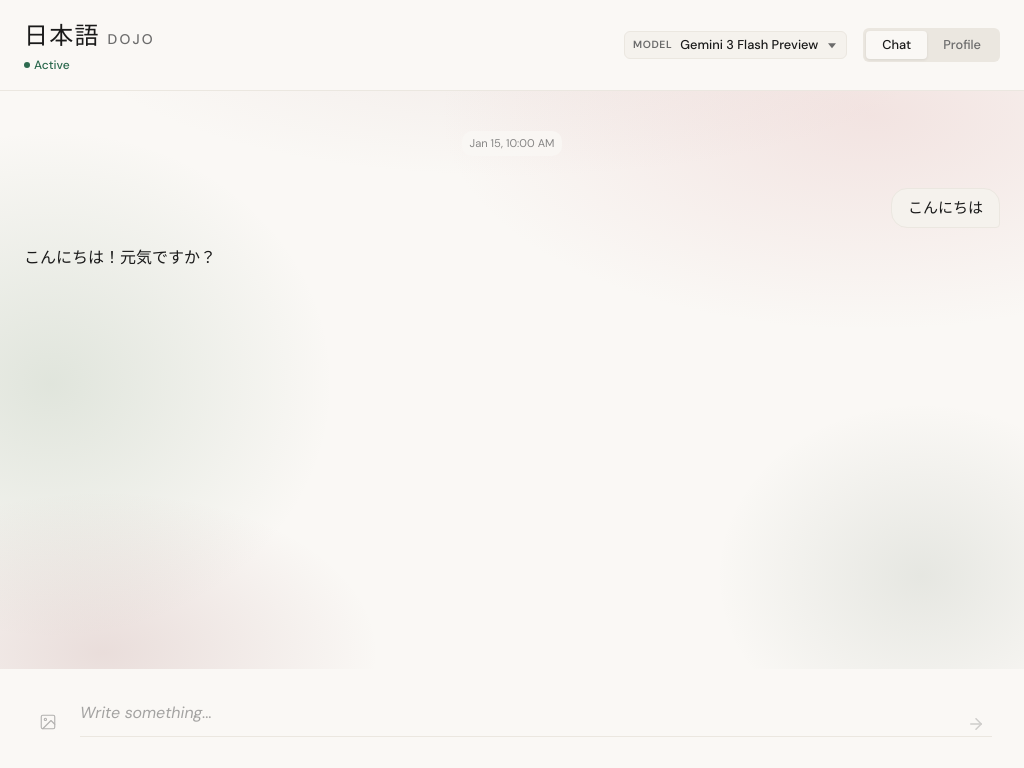
Test case: Chat › rendering › renders the configured chat model selector
Click the button with aria-label "Chat model". click: [749, 45]
box: [680,35,818,55]
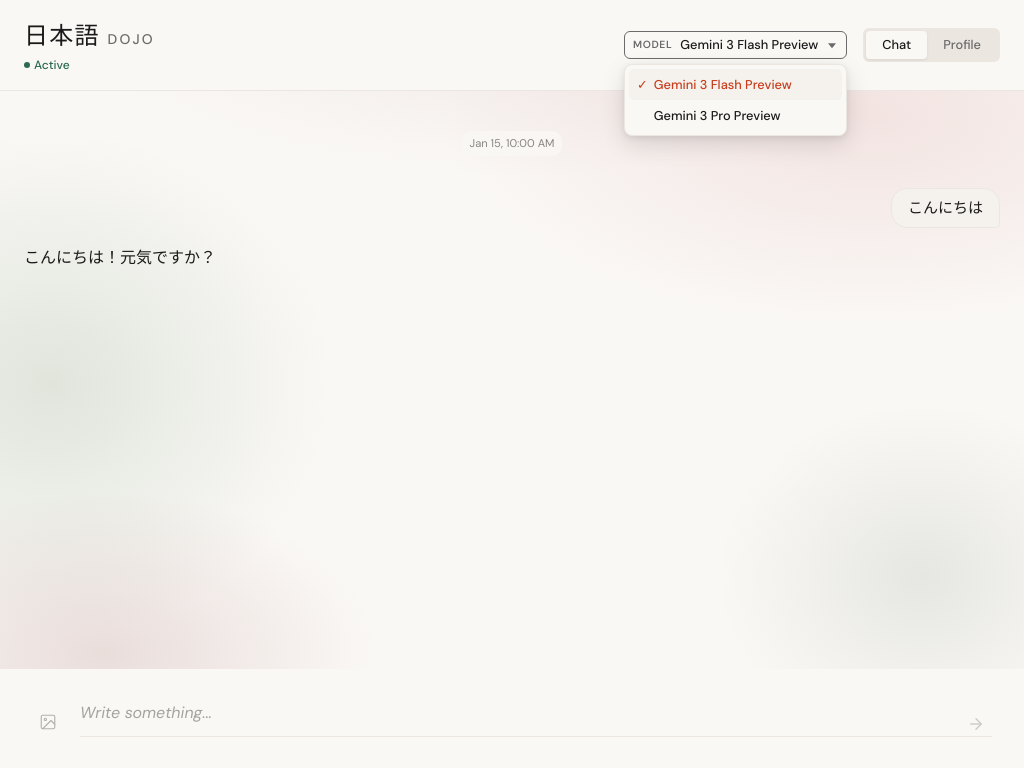
Result: the option "Gemini 3 Pro Preview" is shown at [654,107,780,124]
